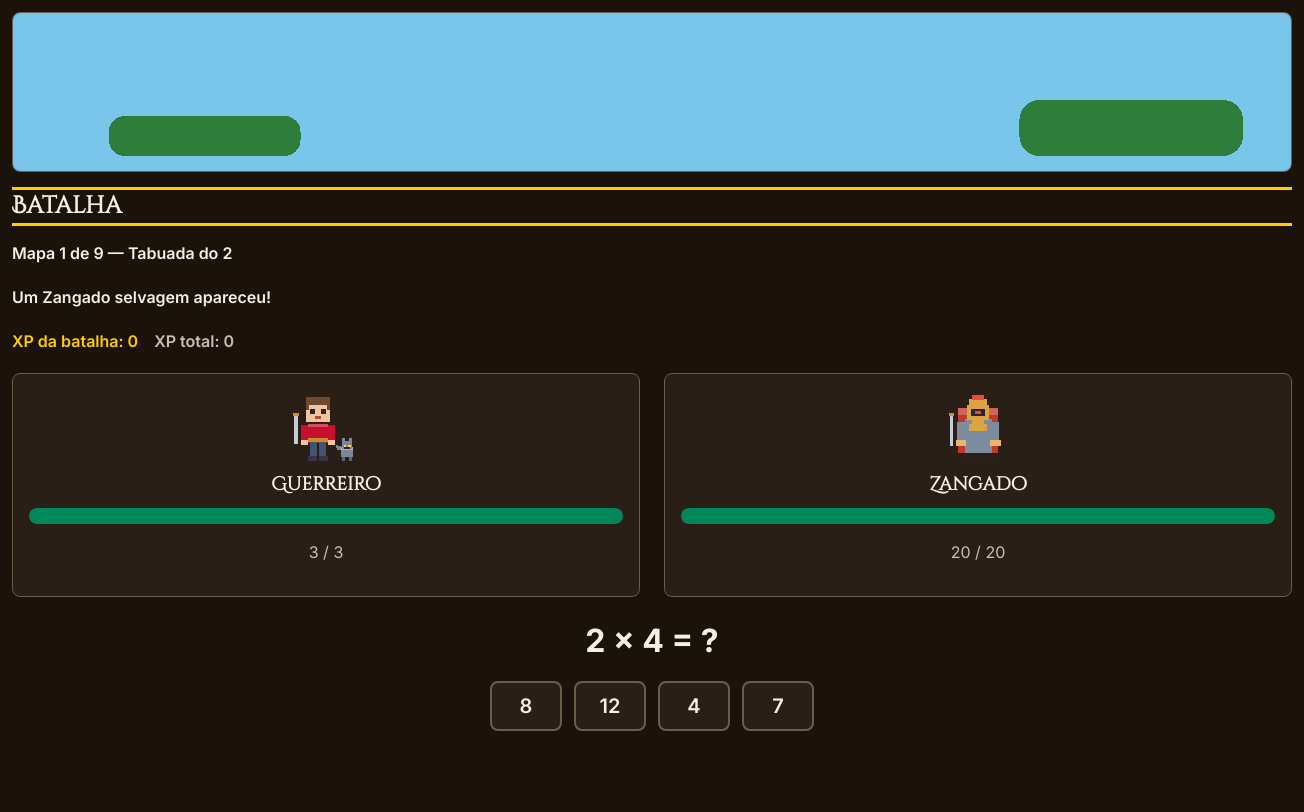
Test: BattleScreen › errar faz o monstro atacar e o herói perder HP
The image size is (1304, 812).
Click the button "12": (610, 706) [574,681,646,731]
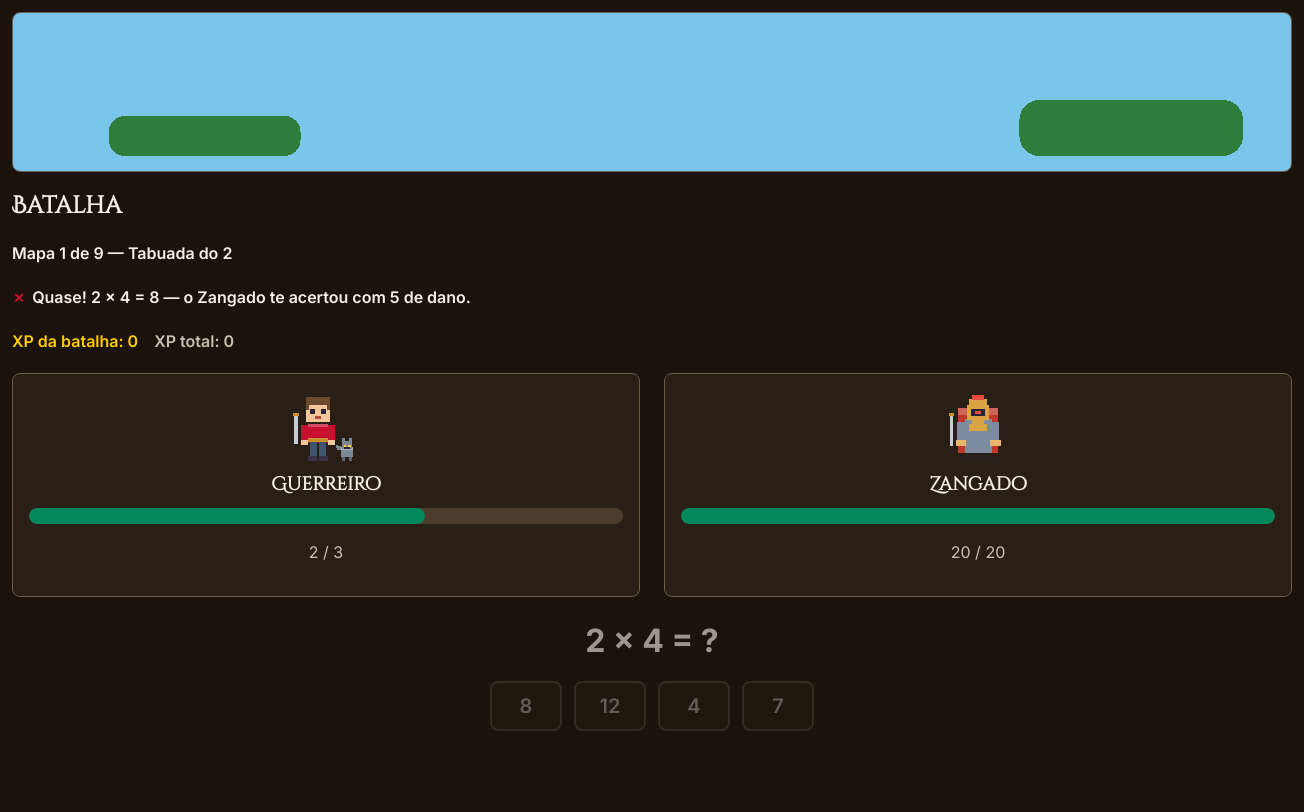
Now the message shows "Quase", box [32,287,471,307]
Now the message shows "te acertou", box [32,287,471,307]
